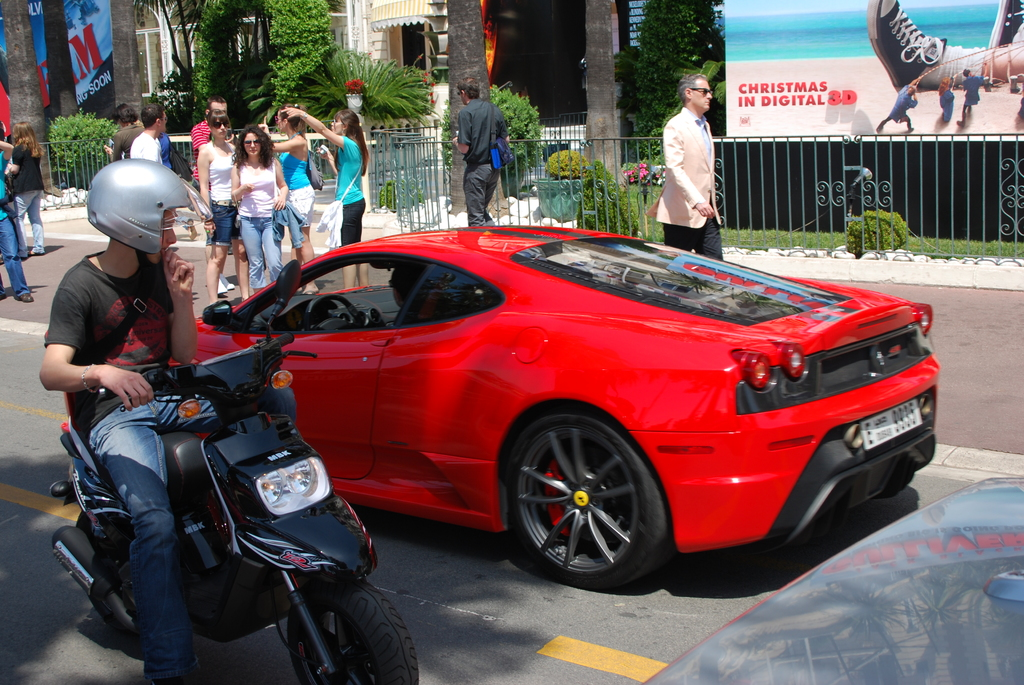Car: (60, 223, 940, 592), (638, 473, 1023, 684)
